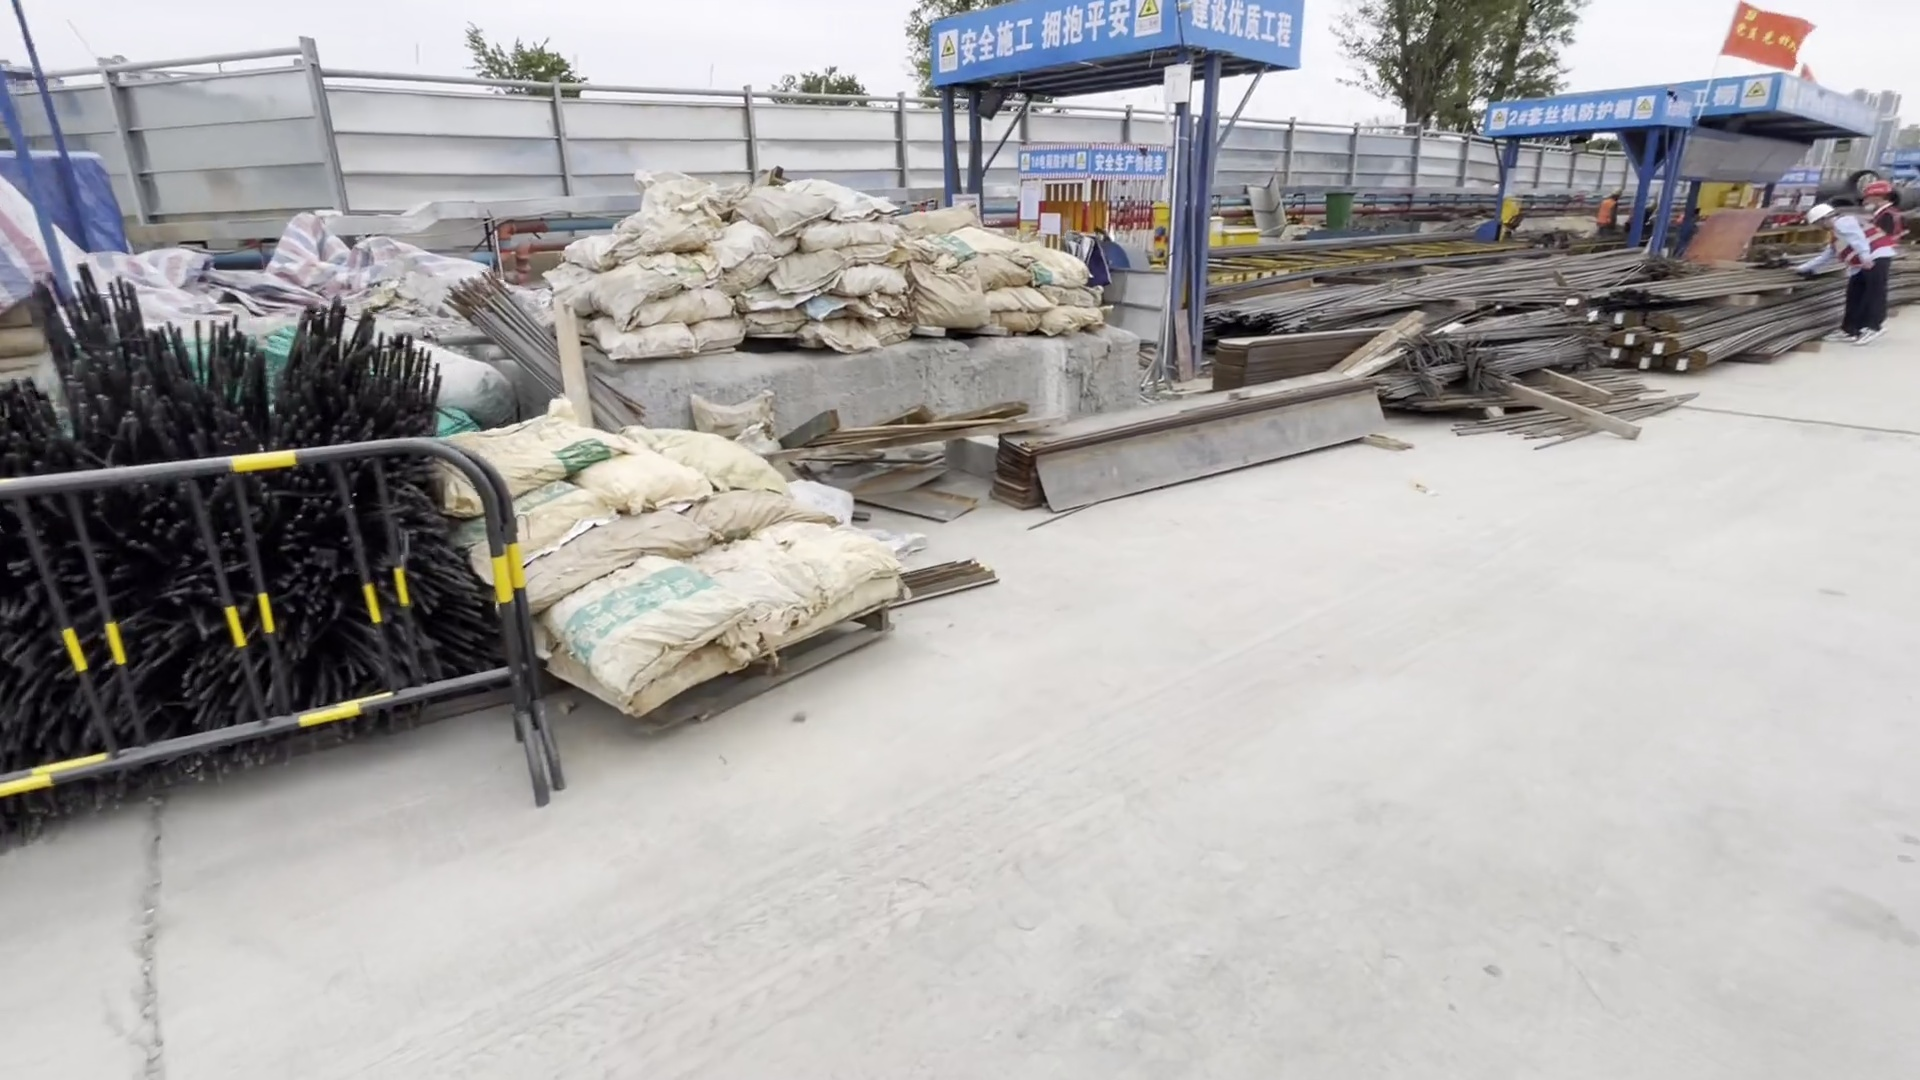ebox: (1709, 181, 1780, 215), (1143, 210, 1175, 272), (1502, 199, 1532, 235)
person: (1807, 200, 1884, 349), (1864, 178, 1904, 340), (1591, 186, 1617, 234)
rebar: (1220, 251, 1920, 421)
slogan: (1470, 103, 1659, 137), (1127, 2, 1172, 43), (931, 21, 964, 73)
